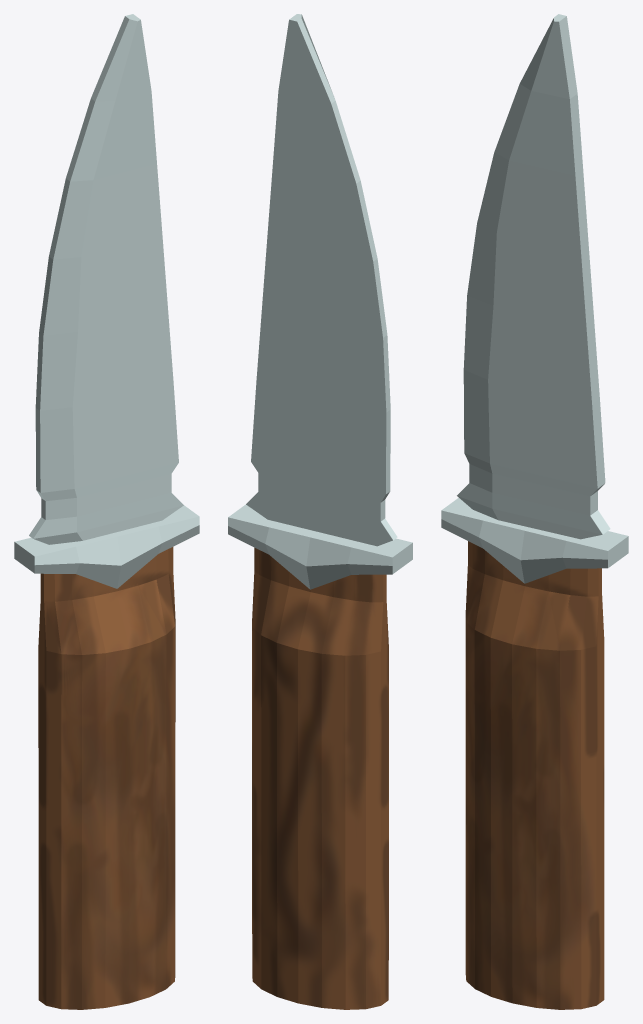
Rendered from cuchillo.fbx.
The picture shows the model from 3 angles, left to right: view 1: azimuth 30°, elevation 25°; view 2: azimuth 150°, elevation 25°; view 3: azimuth 330°, elevation 25°; orthographic projection.
Parts seen in each view (by area): view 1: Cuchillo; view 2: Cuchillo; view 3: Cuchillo.
Part boxes in pixels (x1=…): Cuchillo: x1=14, y1=14, x2=199, y2=1009; Cuchillo: x1=228, y1=14, x2=412, y2=1009; Cuchillo: x1=441, y1=14, x2=628, y2=1009.
Size of the model in its own units: 77.66 by 434 by 36.99.
2 materials, 1 textured.
